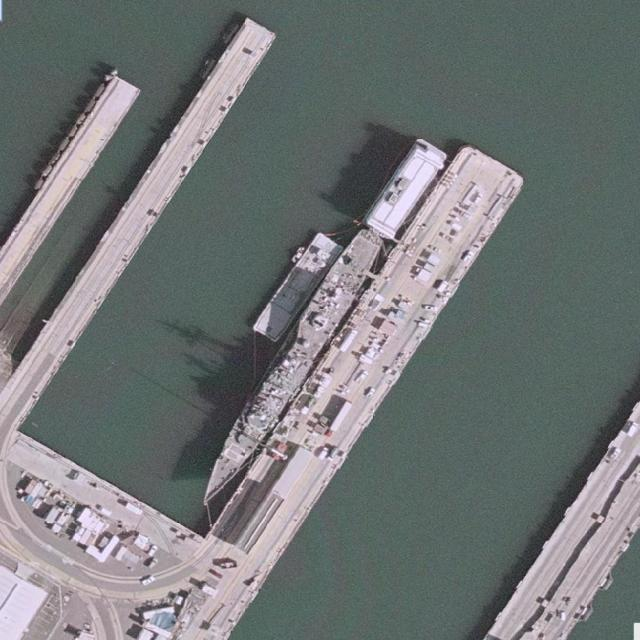Dock: (208, 141, 526, 575), (1, 12, 279, 412), (1, 72, 142, 265)
Frigate: (193, 224, 388, 512)
